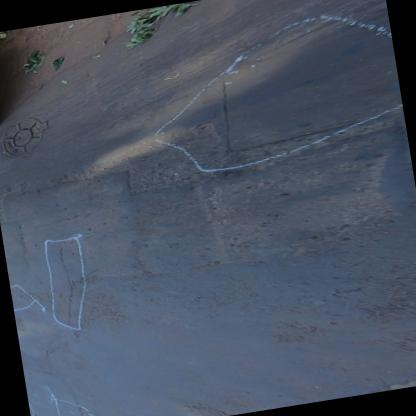manholes: (0, 105, 74, 161)
